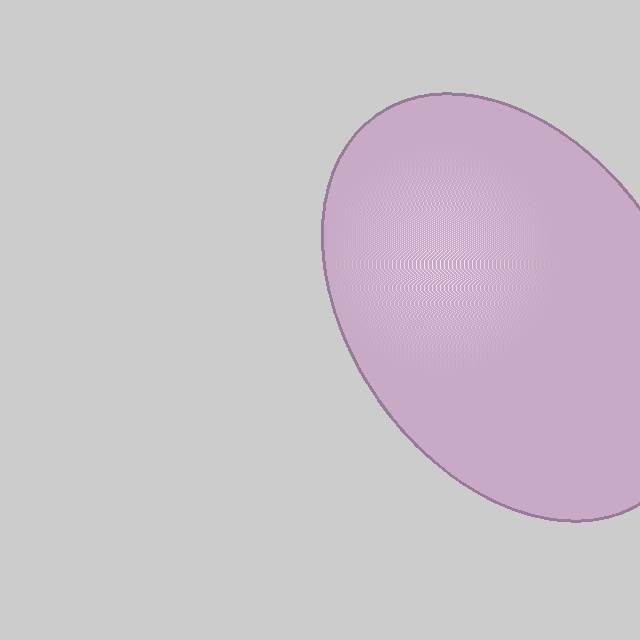lens: (322, 94, 640, 520)
